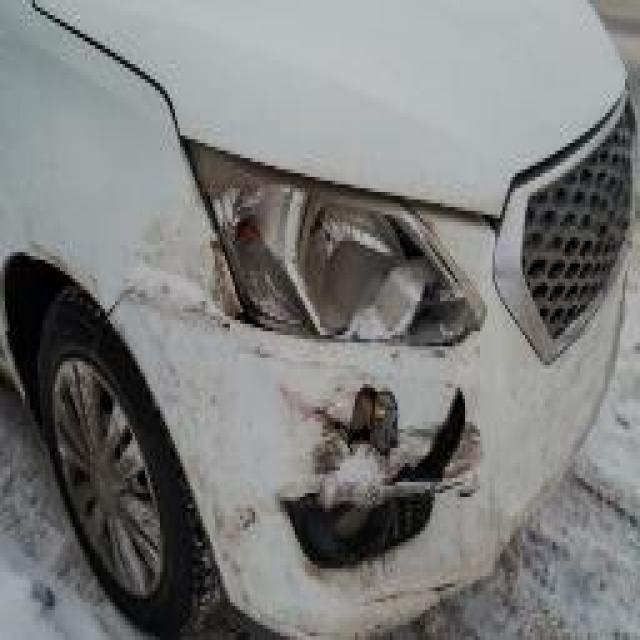Bumper: (148, 331, 560, 636)
Light: (210, 177, 470, 346)
